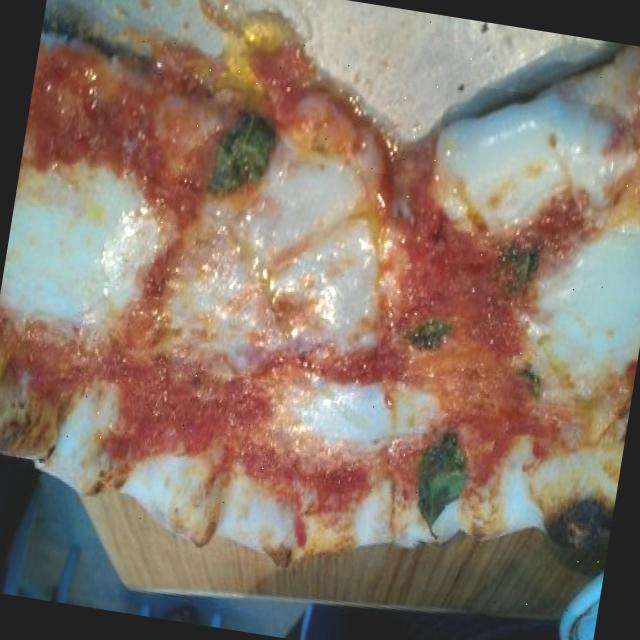basil: (402, 418, 478, 548), (202, 110, 278, 212)
cheese: (150, 142, 406, 396), (423, 81, 627, 267), (0, 133, 158, 350), (509, 218, 640, 417), (268, 354, 436, 498)
pizza: (0, 36, 640, 565)
